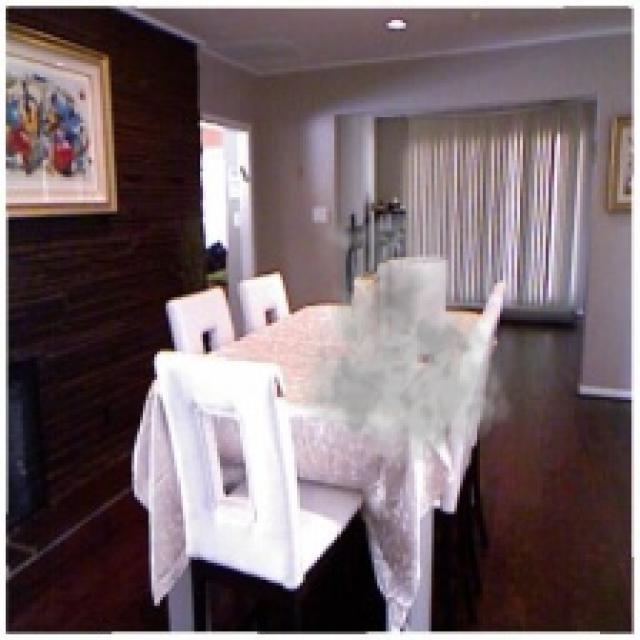Smoke: (282, 197, 514, 469)
